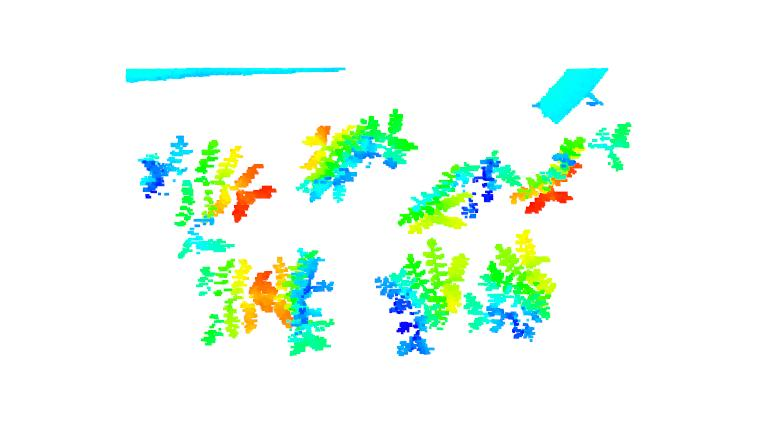chickpea: (136, 133, 279, 224), (373, 233, 472, 359), (292, 108, 417, 205), (176, 224, 275, 336), (395, 148, 520, 235), (463, 227, 554, 344), (273, 246, 335, 354), (510, 135, 586, 215), (586, 119, 638, 173)
